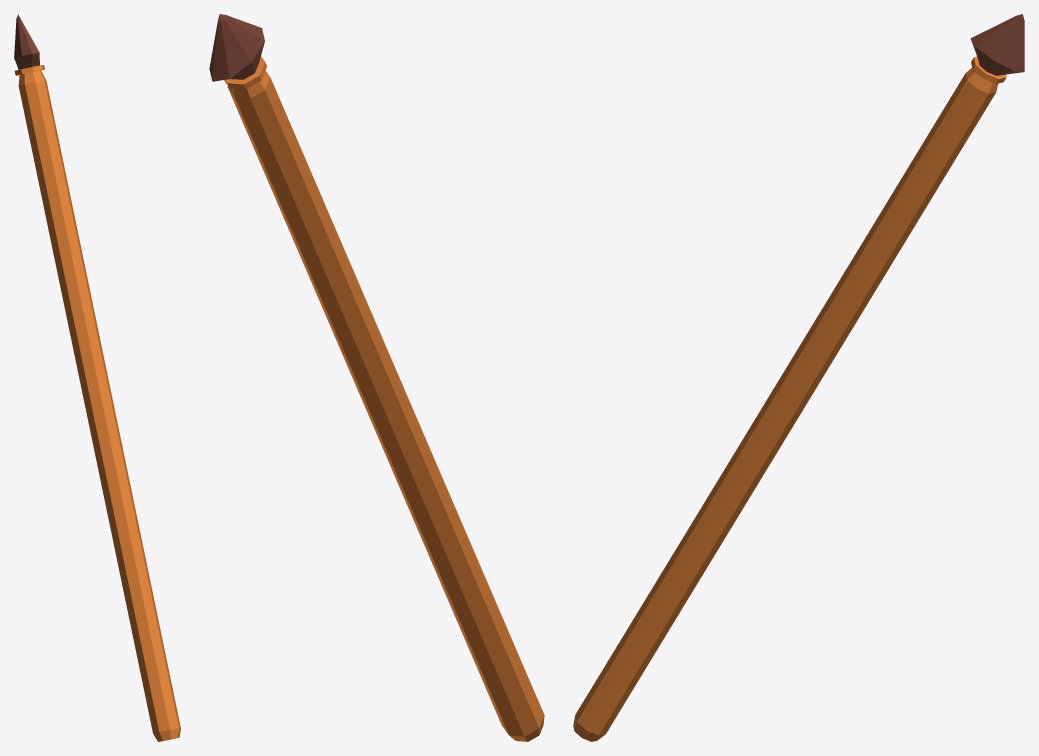
The model's file is spear.glb.
3 views of the same model, side by side, from view 1: azimuth 30°, elevation 25°; view 2: azimuth 150°, elevation 25°; view 3: azimuth 270°, elevation 25° (orthographic). The views are drawn at different scales.
Visible parts, largest first — view 1: Circle; view 2: Circle; view 3: Circle.
Boxes of the visible parts, x1,y1,x2,y2 form: Circle: (14,14,180,741); Circle: (209,14,544,741); Circle: (573,14,1024,741).
Bounding box in the file's own units: 4.38 × 51.63 × 28.52.
